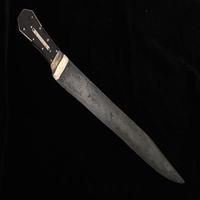knife: (16, 7, 184, 182)
